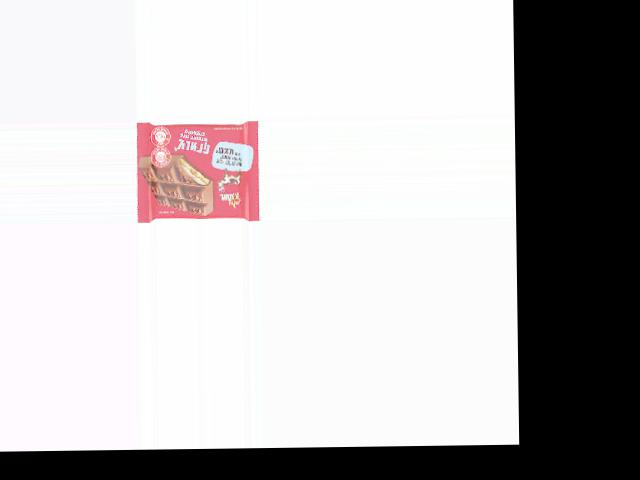chocolate: (137, 120, 255, 221)
